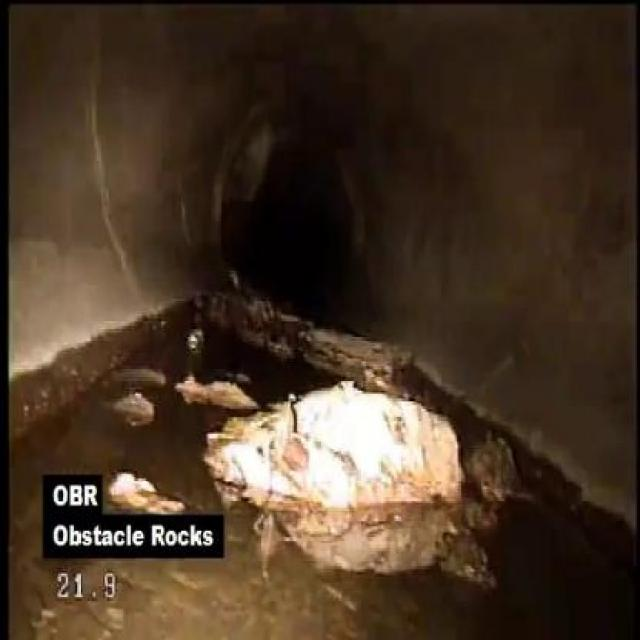Obstacle: (202, 352, 476, 528)
